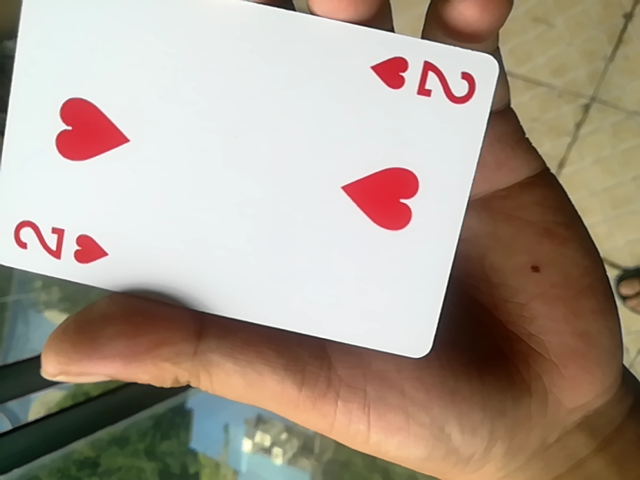hx 2: (2, 1, 504, 367)
